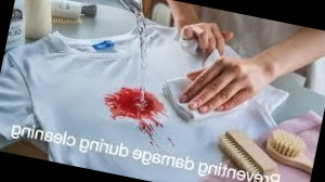blood: (102, 83, 166, 128)
